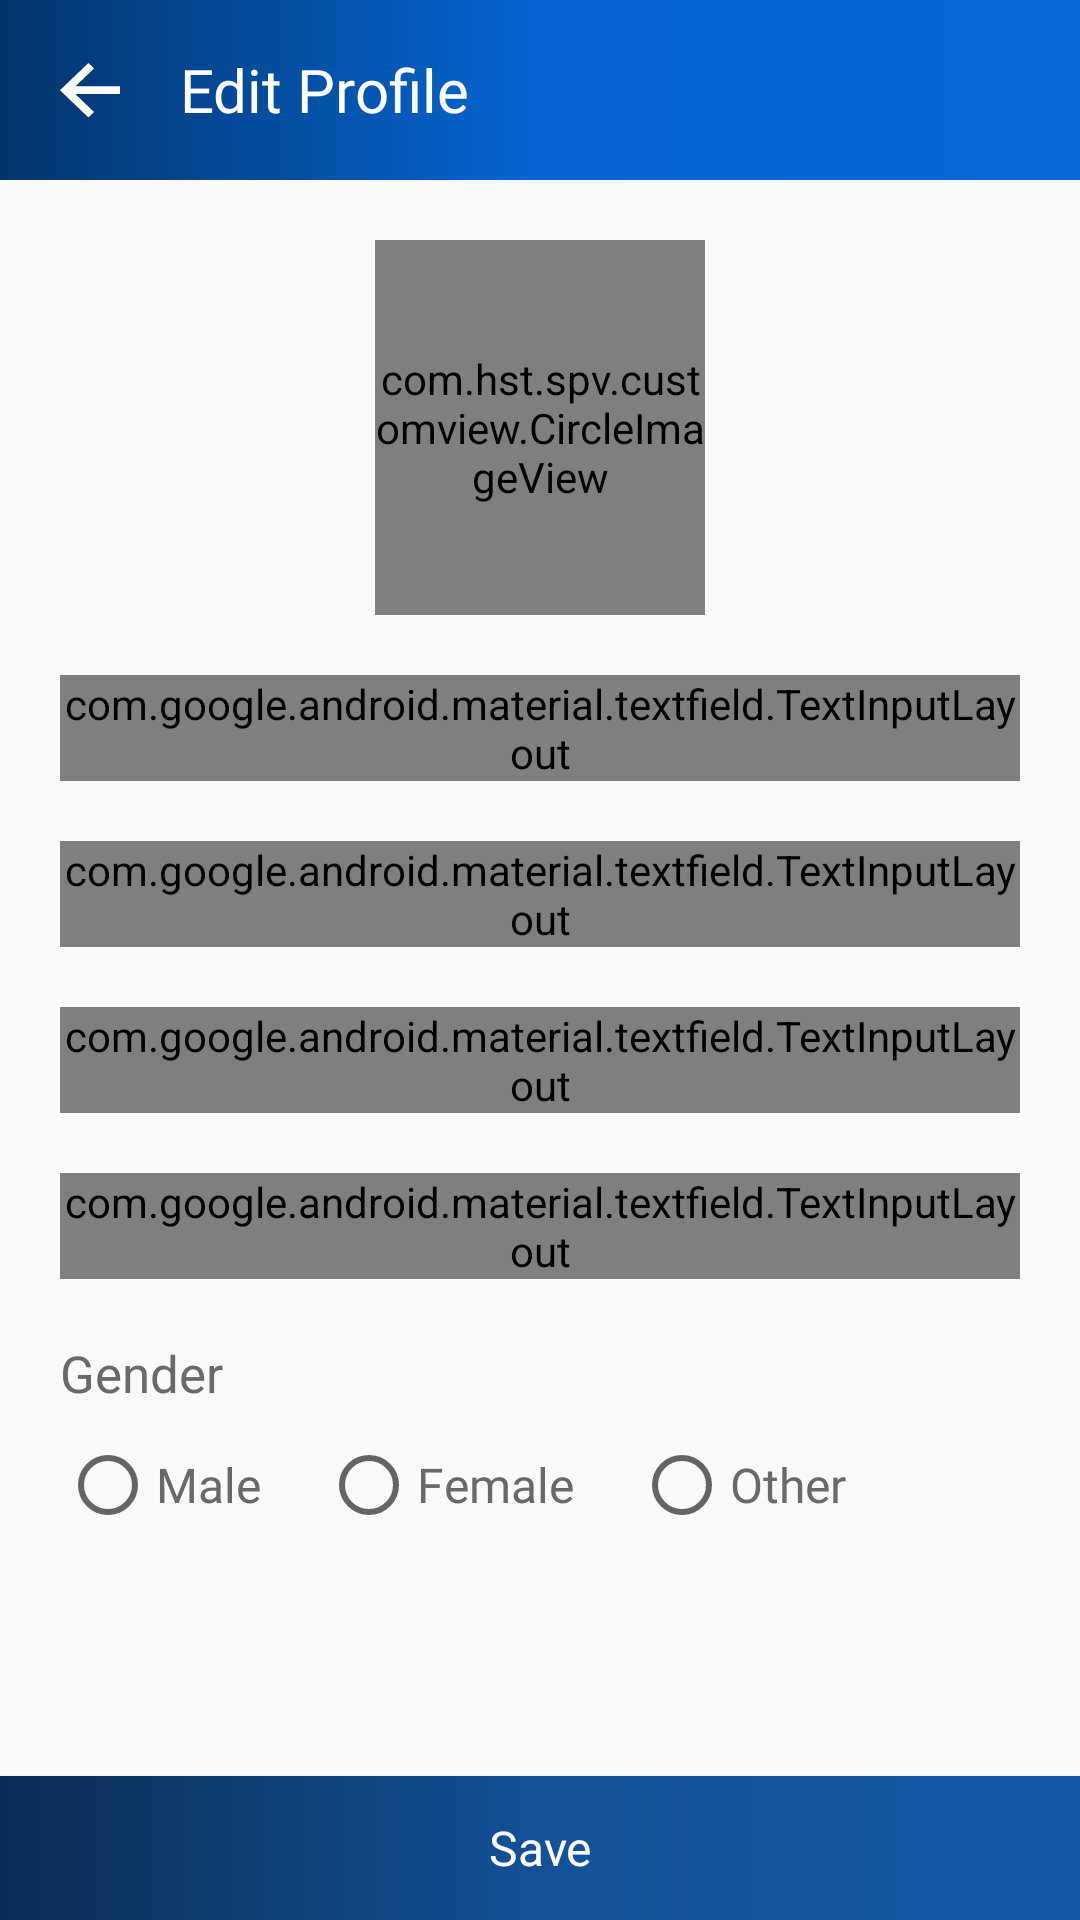

Screen size 1080×1920. Icon name, then its center in pixels as [x,y]:
left arrow: [90,90]
